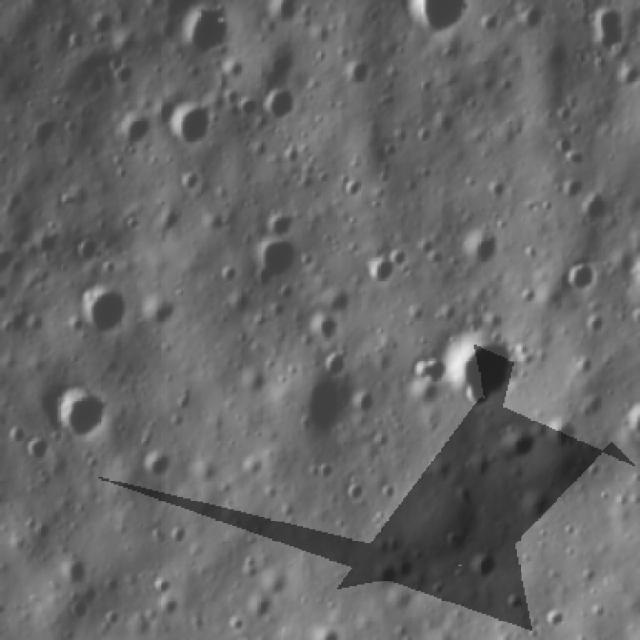crater: (430, 322, 532, 409), (43, 374, 115, 452), (72, 275, 139, 351), (290, 374, 356, 448), (171, 2, 232, 63), (160, 96, 218, 155), (399, 1, 470, 44), (249, 232, 300, 291), (508, 487, 563, 530), (457, 229, 508, 274), (262, 80, 304, 134), (538, 415, 588, 459), (464, 538, 510, 584), (302, 312, 353, 350), (565, 258, 612, 298), (498, 432, 545, 470), (358, 255, 405, 291)
